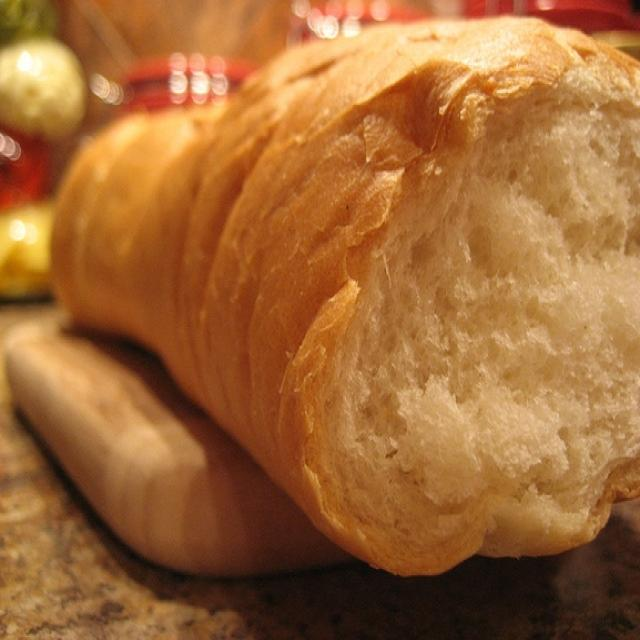面包点心: (3, 7, 636, 621)
